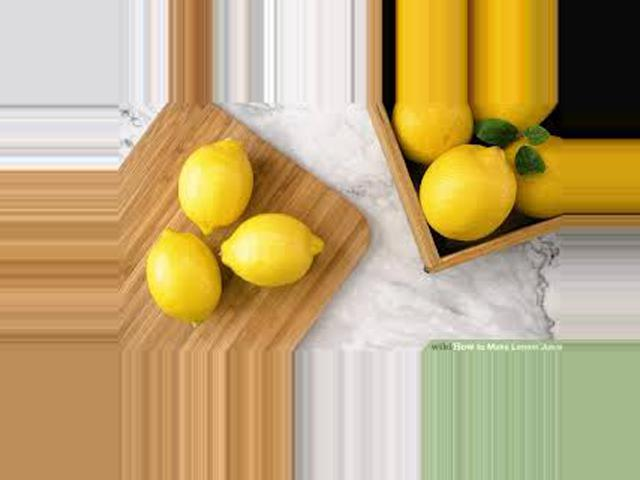lemon: (136, 226, 241, 336)
